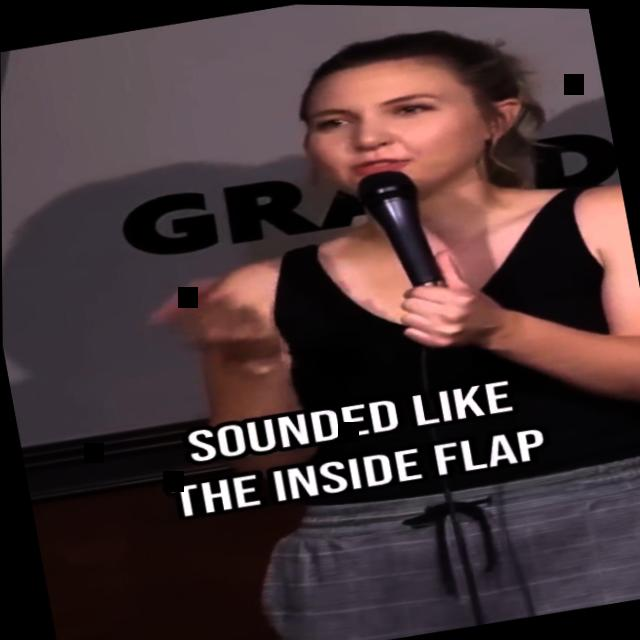NO-Mask: (285, 40, 520, 215)
